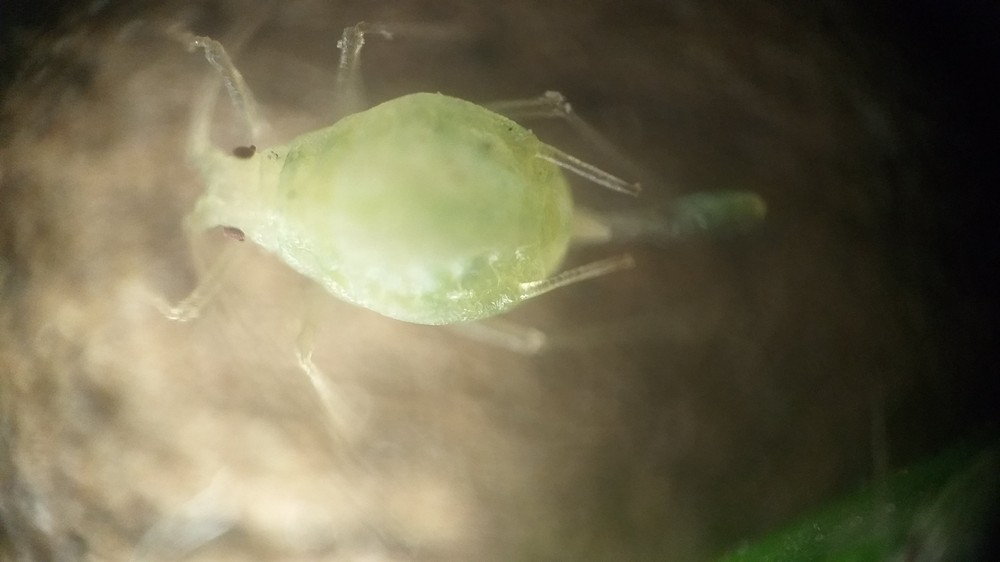Pulgon: (142, 19, 756, 409)
